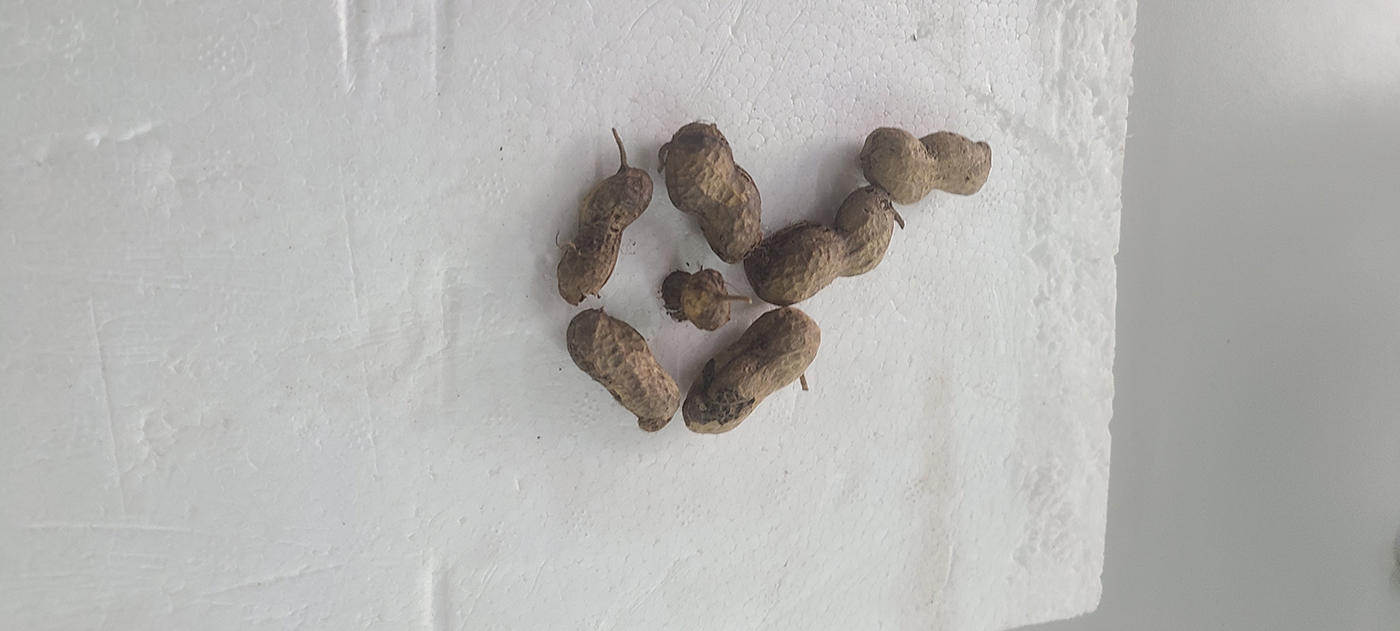l: (747, 185, 894, 306), (683, 306, 821, 434), (664, 122, 762, 264), (567, 310, 680, 433), (558, 166, 652, 306), (861, 126, 992, 204), (661, 270, 731, 331)
